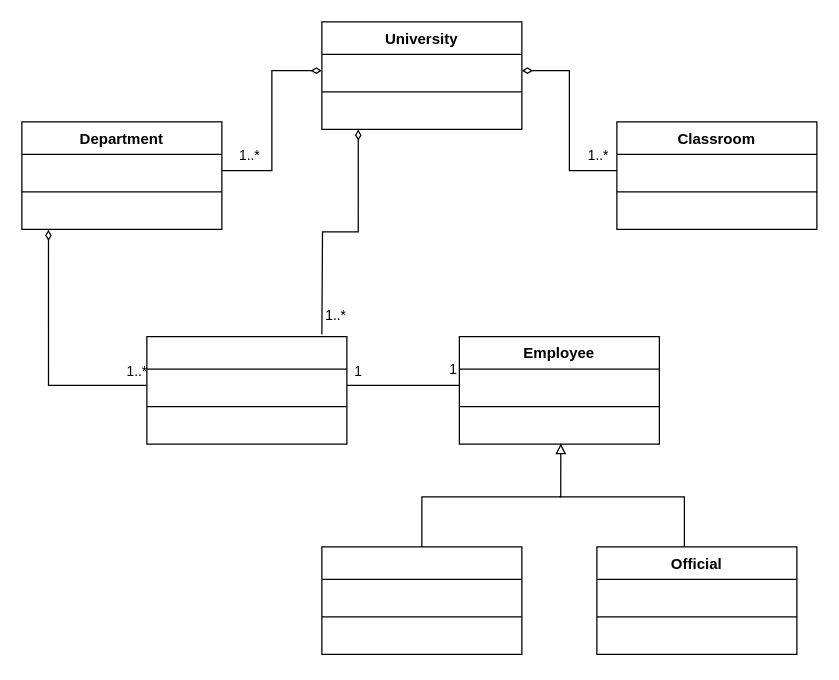
This 839x680 diagram has some shape labels left out. Each missing label, with the centre of its shape:
"Office" belongs at point 246,389.
"Professor" belongs at point 421,600.
